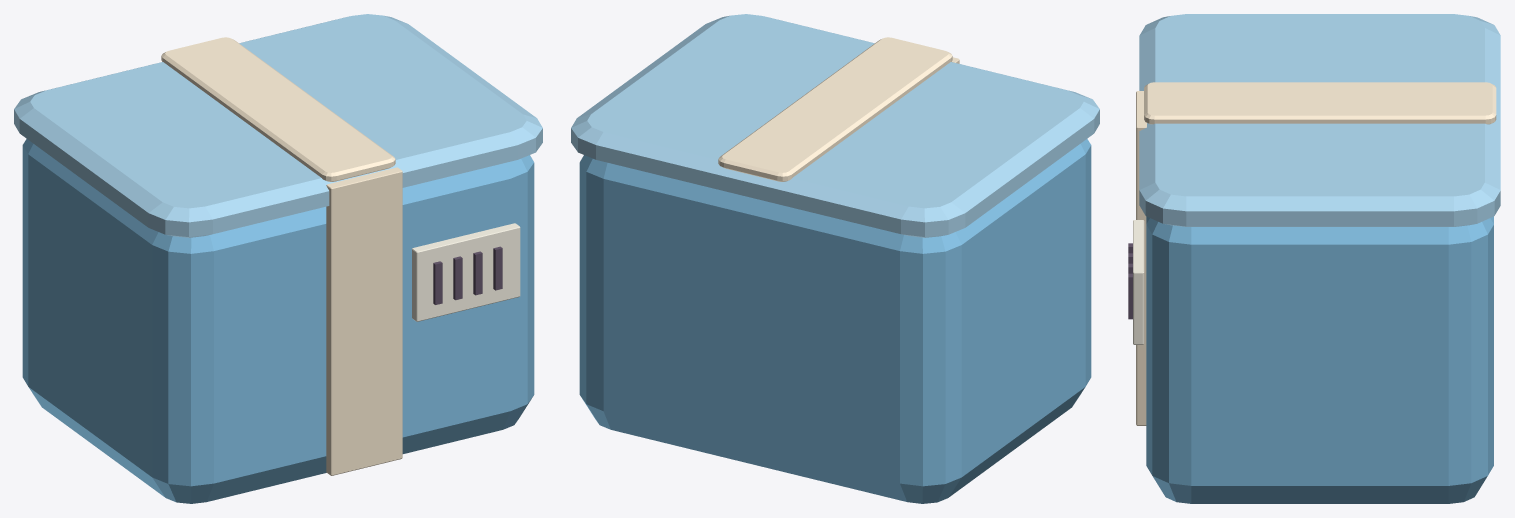
The model's file is ice_box.glb.
3 views of the same model, side by side, from view 1: azimuth 30°, elevation 25°; view 2: azimuth 150°, elevation 25°; view 3: azimuth 270°, elevation 25° (orthographic). The views are drawn at different scales.
Visible parts, largest first — view 1: carton, lid, model, ribbon, label; view 2: carton, lid, ribbon; view 3: carton, lid, ribbon, model, label.
Part boxes in pixels (x1,y1,x2,y2): carton: [22, 139, 534, 503]; lid: [14, 14, 542, 237]; model: [326, 167, 502, 475]; ribbon: [161, 37, 395, 181]; label: [412, 223, 520, 321]; carton: [579, 139, 1091, 503]; lid: [571, 14, 1099, 237]; ribbon: [718, 37, 952, 181]; carton: [1146, 216, 1493, 503]; lid: [1139, 14, 1500, 226]; ribbon: [1144, 82, 1496, 124]; model: [1128, 91, 1146, 425]; label: [1133, 220, 1144, 344].
Size of the model in its own units: 0.4 by 0.3 by 0.32.
